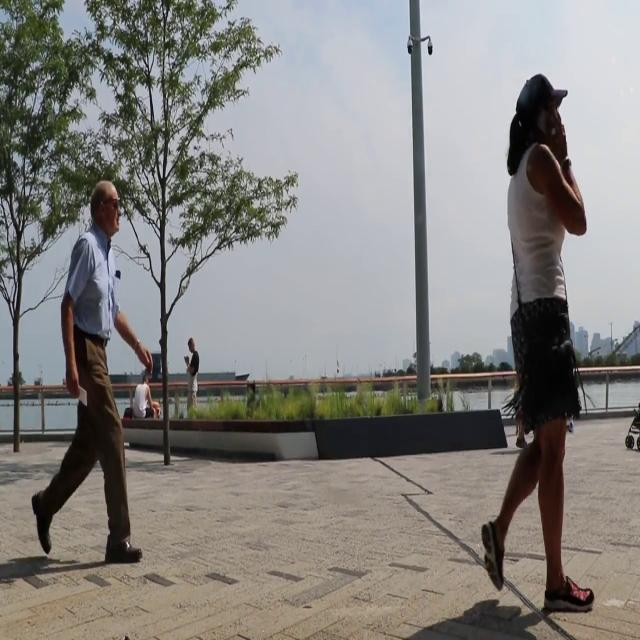normal: (479, 69, 605, 618), (30, 174, 153, 580)
